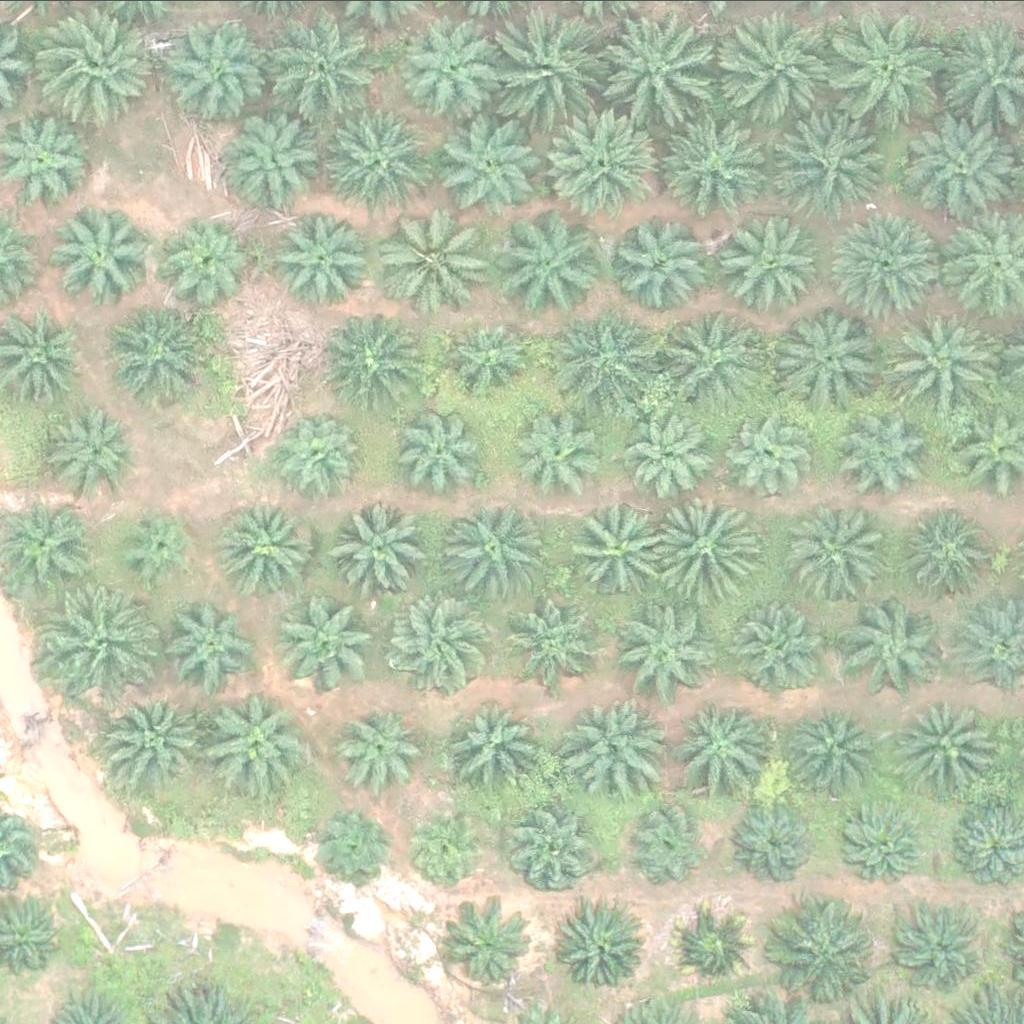Kelapa_Sawit: (770, 105, 884, 218), (47, 585, 161, 698), (496, 15, 609, 128), (725, 6, 838, 119), (906, 112, 1019, 225), (660, 105, 773, 218), (497, 208, 610, 321), (832, 206, 945, 319), (894, 300, 1007, 413), (652, 302, 765, 415), (552, 301, 665, 414), (318, 107, 431, 220), (830, 12, 944, 124), (651, 492, 765, 604), (608, 10, 721, 122), (544, 107, 657, 219), (771, 893, 884, 1005), (268, 9, 381, 121), (158, 15, 271, 127), (38, 8, 151, 120), (381, 199, 494, 311), (615, 216, 716, 316), (719, 208, 820, 308), (783, 305, 884, 405), (575, 493, 676, 593), (623, 601, 724, 701), (733, 599, 834, 699), (669, 694, 770, 794), (404, 17, 505, 117), (225, 110, 326, 210), (439, 117, 540, 217), (273, 205, 374, 305), (48, 202, 149, 302), (108, 306, 209, 406), (389, 593, 490, 693), (330, 701, 431, 801), (786, 505, 886, 605), (843, 596, 943, 696), (450, 695, 550, 795), (566, 692, 666, 792), (903, 691, 1003, 791), (327, 311, 427, 411), (216, 497, 316, 597), (329, 497, 429, 597), (444, 498, 544, 598), (274, 589, 374, 689), (104, 685, 204, 785), (210, 694, 310, 794), (519, 414, 607, 502), (631, 410, 719, 498), (902, 512, 990, 600), (520, 591, 608, 679), (786, 704, 874, 792), (407, 803, 495, 891), (625, 799, 713, 887), (737, 798, 825, 886), (842, 798, 930, 886), (440, 314, 528, 402), (50, 404, 138, 492), (728, 409, 816, 496), (847, 408, 935, 495), (508, 802, 596, 889), (449, 900, 537, 987), (554, 904, 642, 991), (672, 904, 760, 991), (893, 907, 981, 994), (160, 215, 248, 302), (394, 408, 482, 495), (271, 411, 359, 498), (171, 601, 259, 688), (308, 802, 396, 889), (120, 509, 196, 584)
